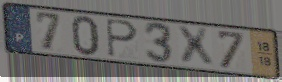0: (70, 15, 101, 58)
3: (143, 21, 173, 66)
7: (217, 29, 247, 71), (35, 11, 63, 53)
P: (104, 17, 140, 59)
X: (175, 25, 217, 68)
